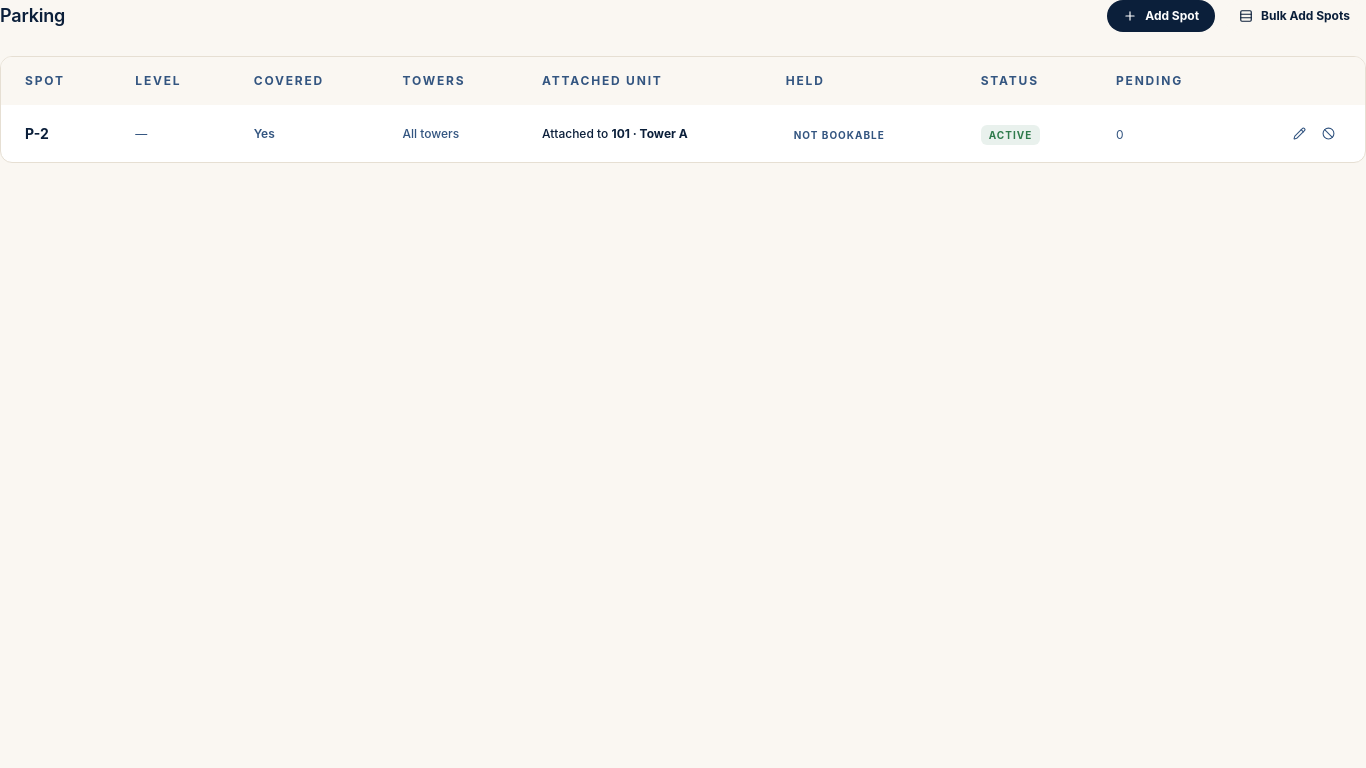
it: ParkingTab attached unit › shows a refused save in the user's language and keeps the dialog open
The image size is (1366, 768).
Click the button named "Edit Spot": x=1300, y=134 x1=1287 y1=121 x2=1312 y2=146
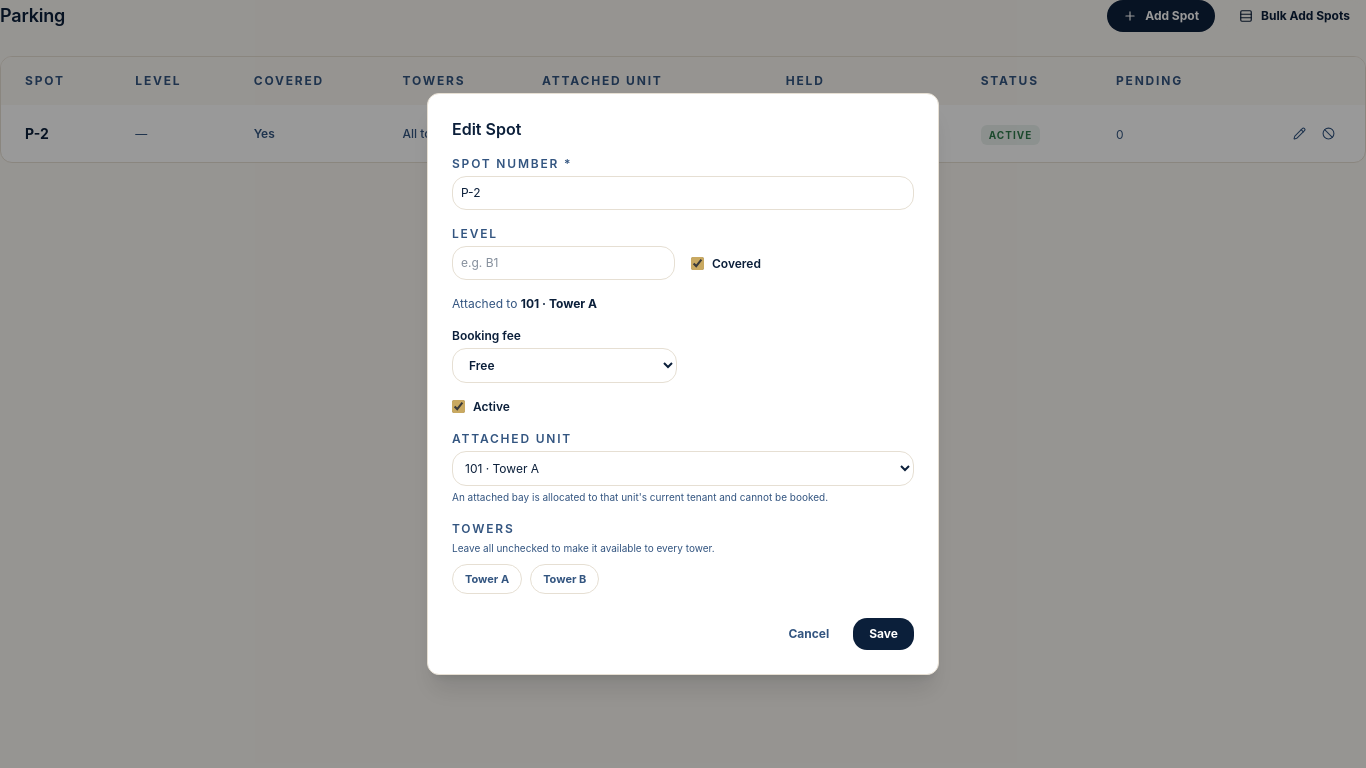
Select "102 · Tower A" in the dropdown with test id "spot-attached-unit": x=683, y=468 x1=452 y1=451 x2=914 y2=486
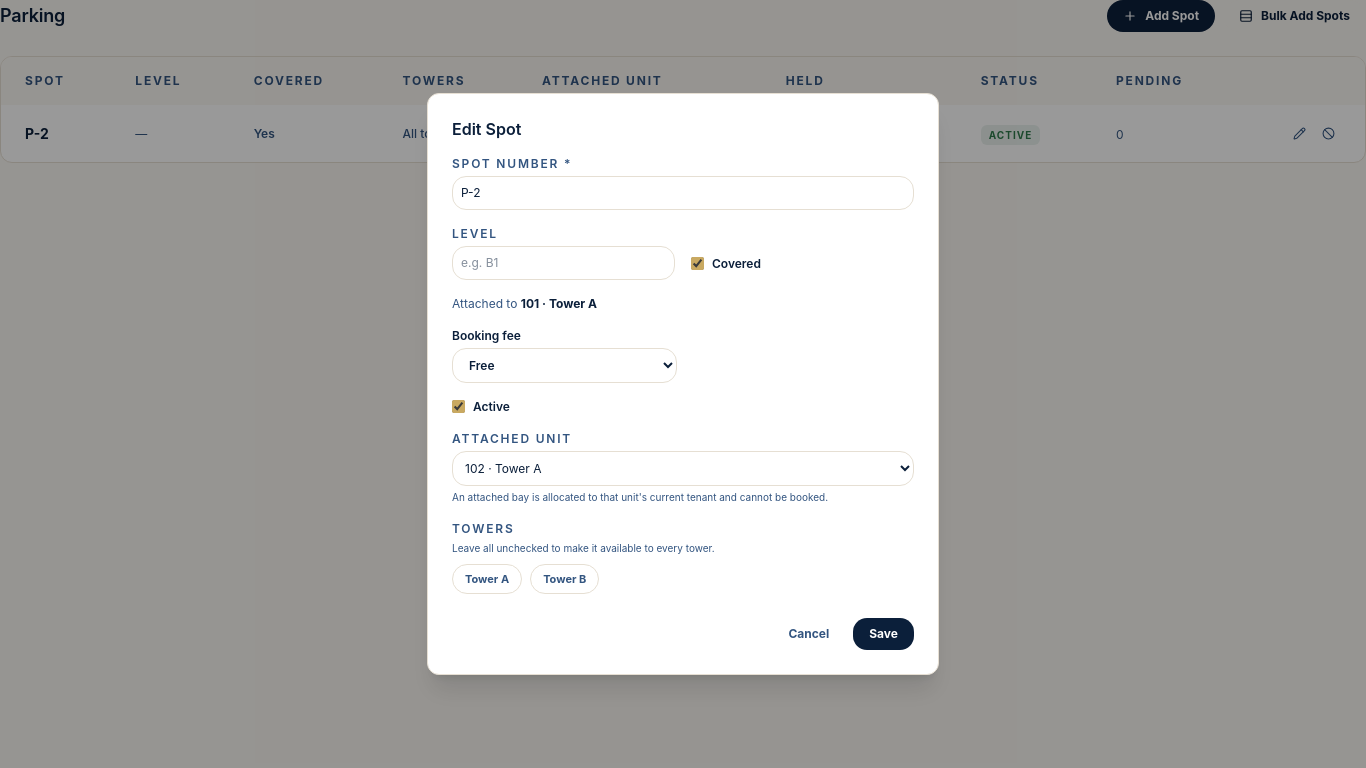
Click the button "Save": x=884, y=634 x1=853 y1=618 x2=914 y2=650
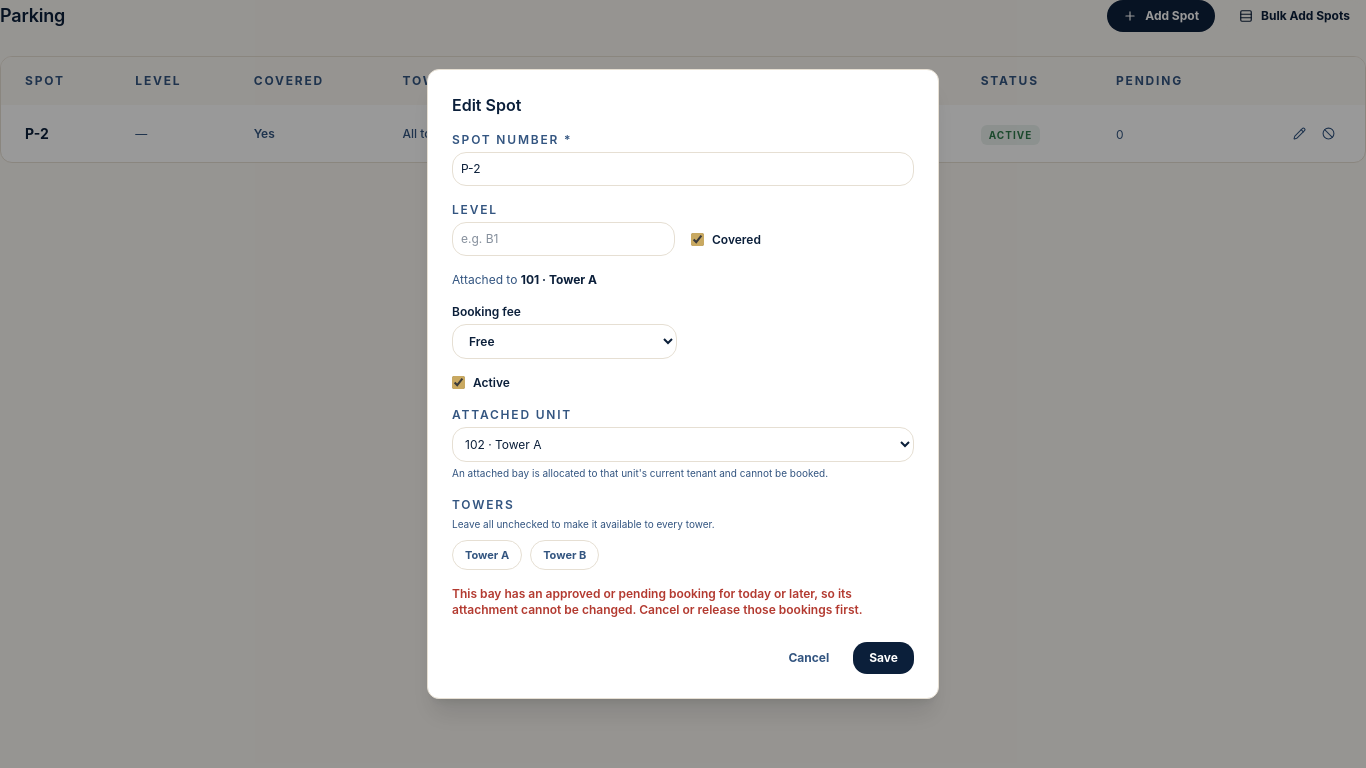
Result: the text "This bay has an approved or pending booking for today or later, so its attachment cannot be changed. Cancel or release t" is shown at x1=452 y1=586 x2=863 y2=617
